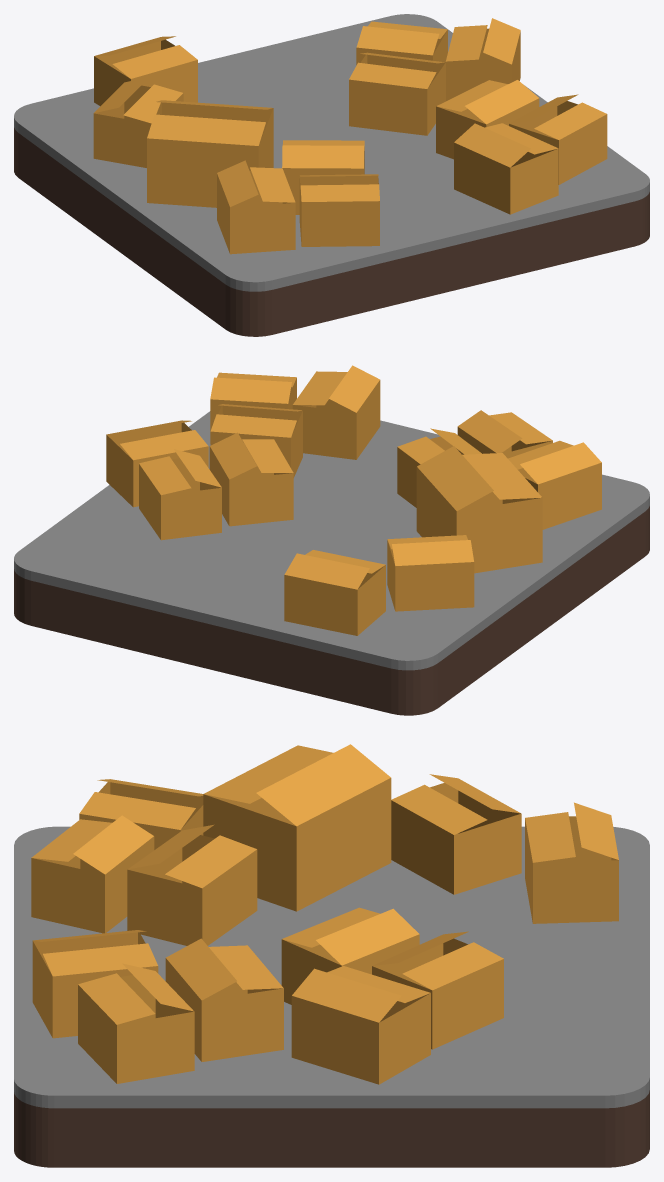
Rendered from BackroomModel.fbx.
The picture shows the model from 3 angles, top to bottom: view 1: azimuth 30°, elevation 25°; view 2: azimuth 150°, elevation 25°; view 3: azimuth 270°, elevation 25°; orthographic projection. The views are drawn at different scales.
Visible parts, largest first — view 1: Backroom; view 2: Backroom; view 3: Backroom.
Boxes of the visible parts, left/top/right/bottom form: Backroom: left=14, top=14, right=649, bottom=336; Backroom: left=14, top=365, right=649, bottom=715; Backroom: left=14, top=744, right=649, bottom=1167.
Bounding box in the file's own units: 8.01 × 8 × 2.5.
